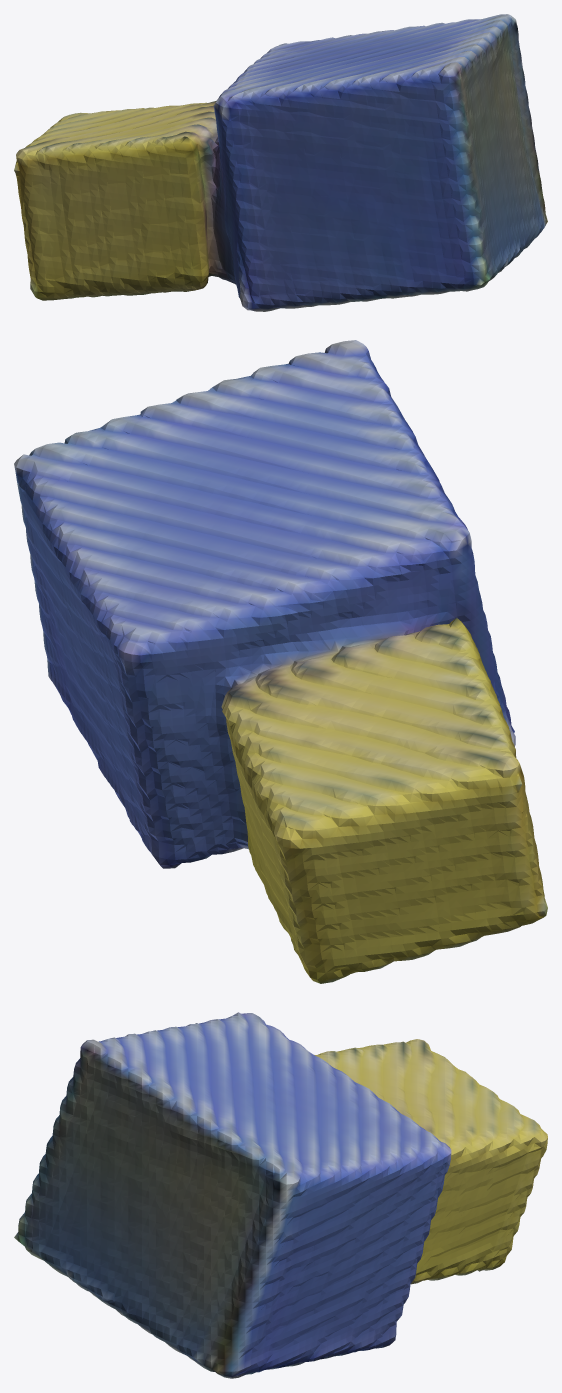
Rendered from triposr_next_to__box_box__000.glb.
The picture shows the model from 3 angles, top to bottom: view 1: azimuth 30°, elevation 25°; view 2: azimuth 150°, elevation 25°; view 3: azimuth 270°, elevation 25°; orthographic projection. The views are drawn at different scales.
Parts seen in each view (by area): view 1: geometry_0; view 2: geometry_0; view 3: geometry_0.
Boxes of the visible parts, box(x1,y1,x2,y2) form: geometry_0: box(14, 14, 547, 311); geometry_0: box(14, 340, 547, 983); geometry_0: box(14, 1012, 547, 1378).
Size of the model in its own units: 1.06 by 0.684 by 1.06.
